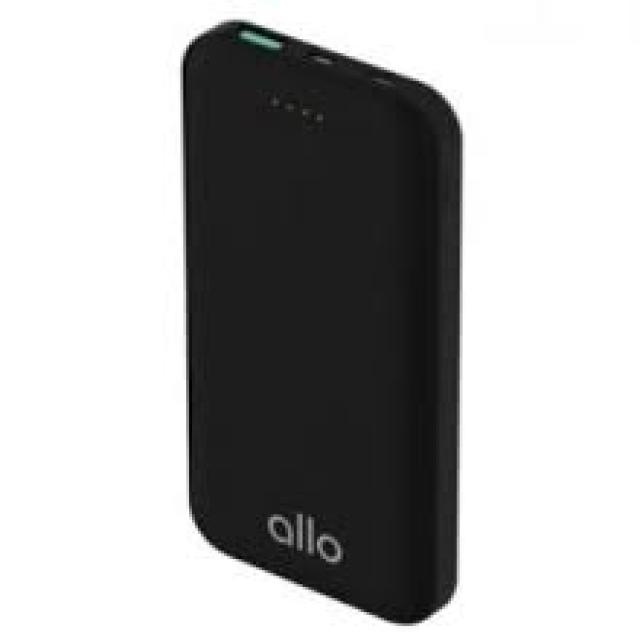power_bank: (178, 13, 459, 627)
